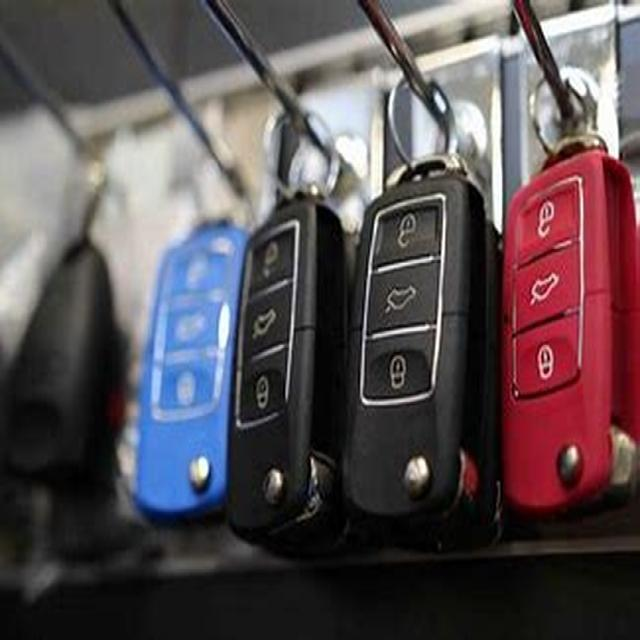key: (496, 94, 626, 538), (340, 128, 474, 546), (235, 157, 342, 588), (144, 196, 241, 545)
